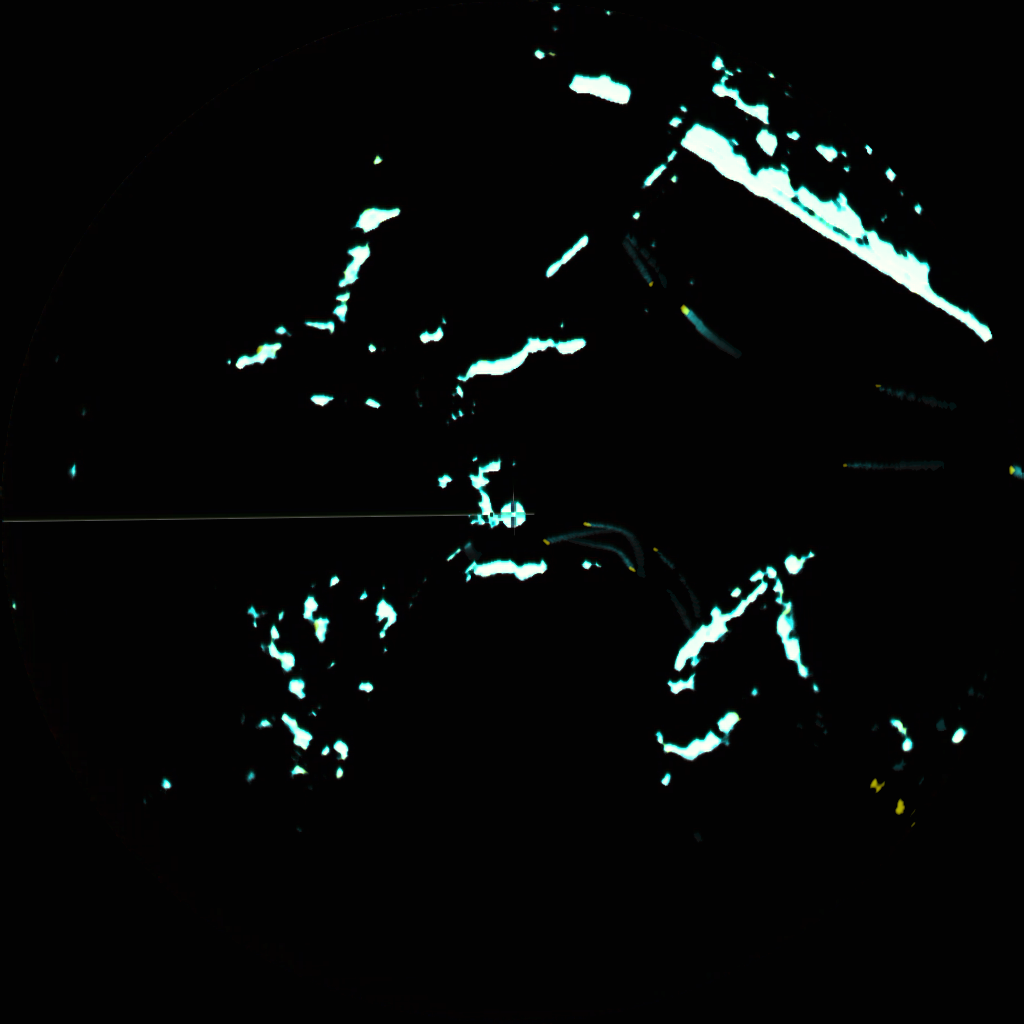B: (651, 544, 692, 597), (679, 304, 728, 346), (843, 459, 930, 475), (628, 241, 657, 288), (876, 379, 933, 402), (597, 546, 641, 575), (583, 517, 629, 536), (545, 528, 585, 549), (1008, 463, 1024, 474)
